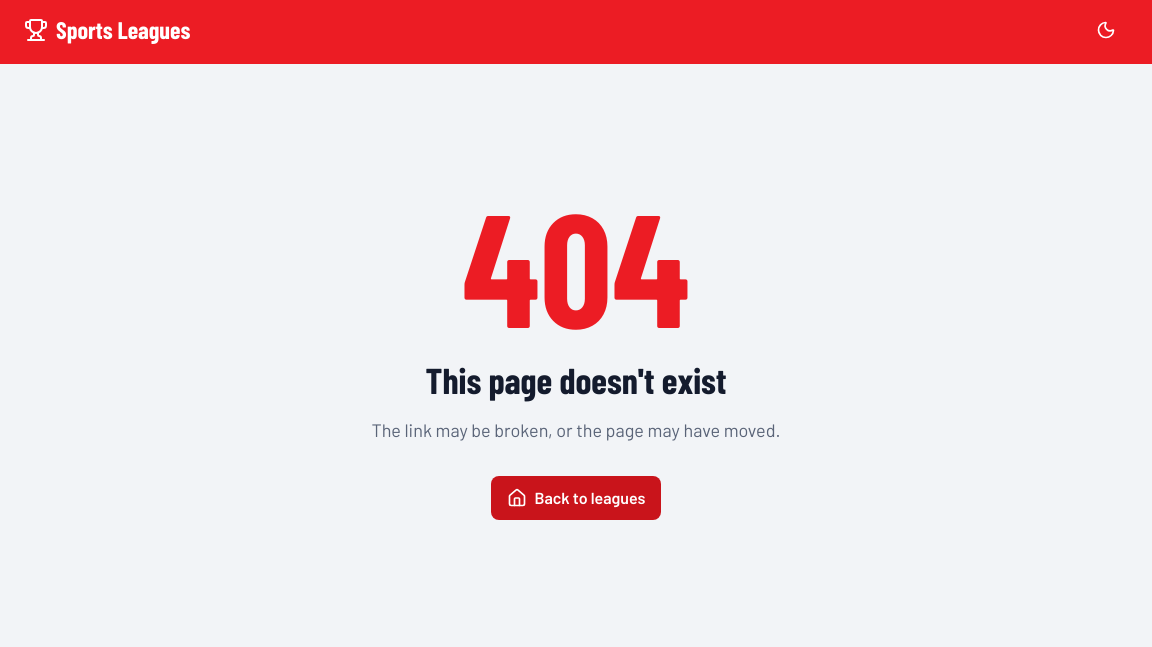
Test case: routing › renders the 404 page for unknown URLs, with a way back
Expected: the heading "This page doesn't exist" is shown, [426, 360, 726, 400]
Click the link "Back to leagues": (576, 498) [491, 476, 661, 520]
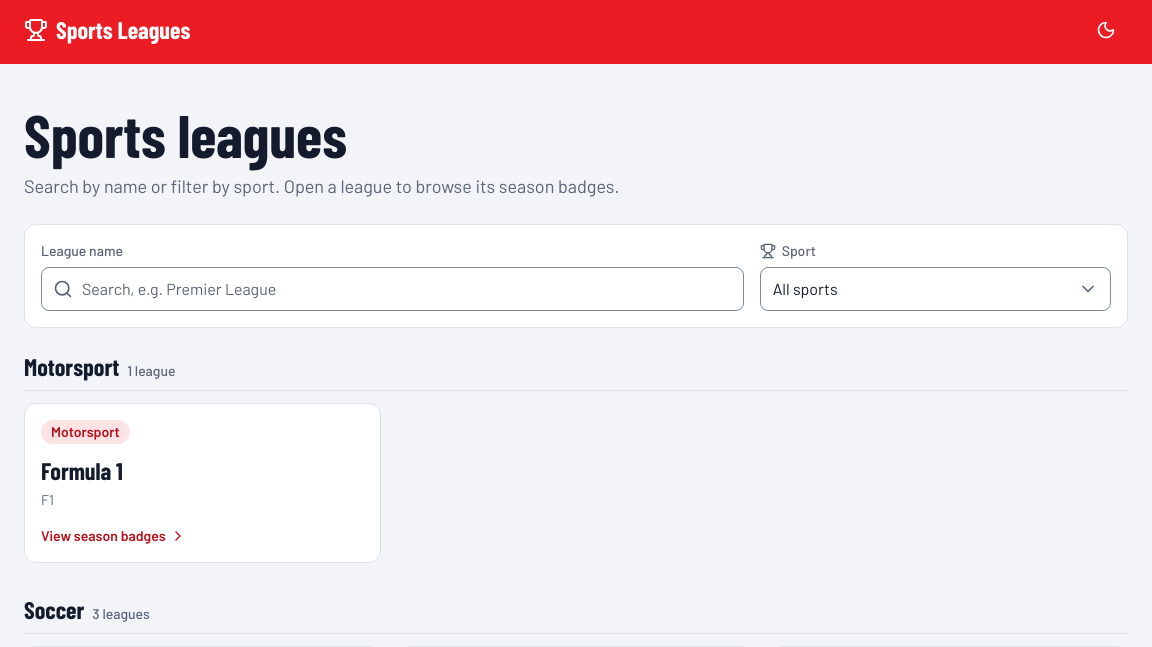
Now the heading "Sports leagues" is shown, box [24, 98, 347, 170]
